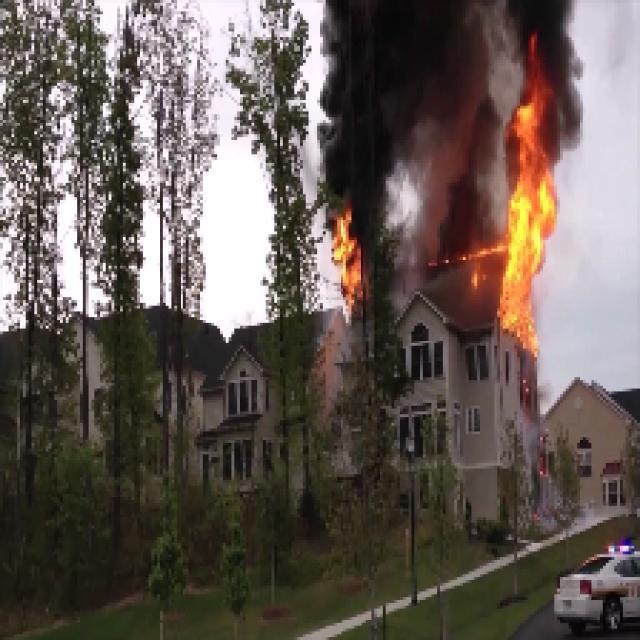Fire: (496, 122, 550, 334)
Smoke: (327, 3, 477, 194), (517, 0, 577, 94)
